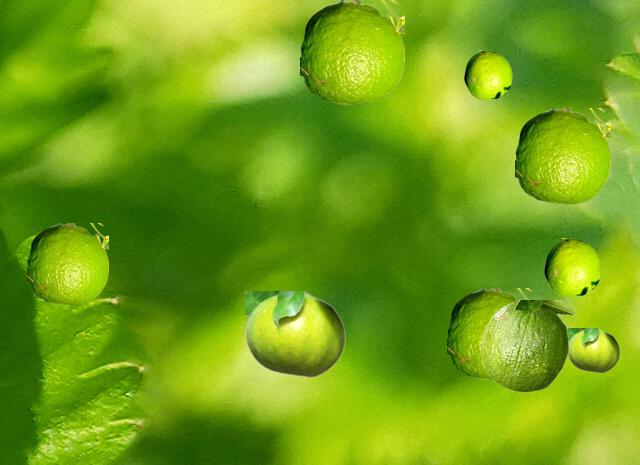dalandan: (300, 0, 403, 104), (515, 108, 609, 203), (480, 300, 575, 391), (245, 291, 345, 377), (447, 288, 532, 379), (27, 223, 107, 304), (544, 238, 600, 296), (464, 50, 511, 99), (568, 328, 619, 372)
